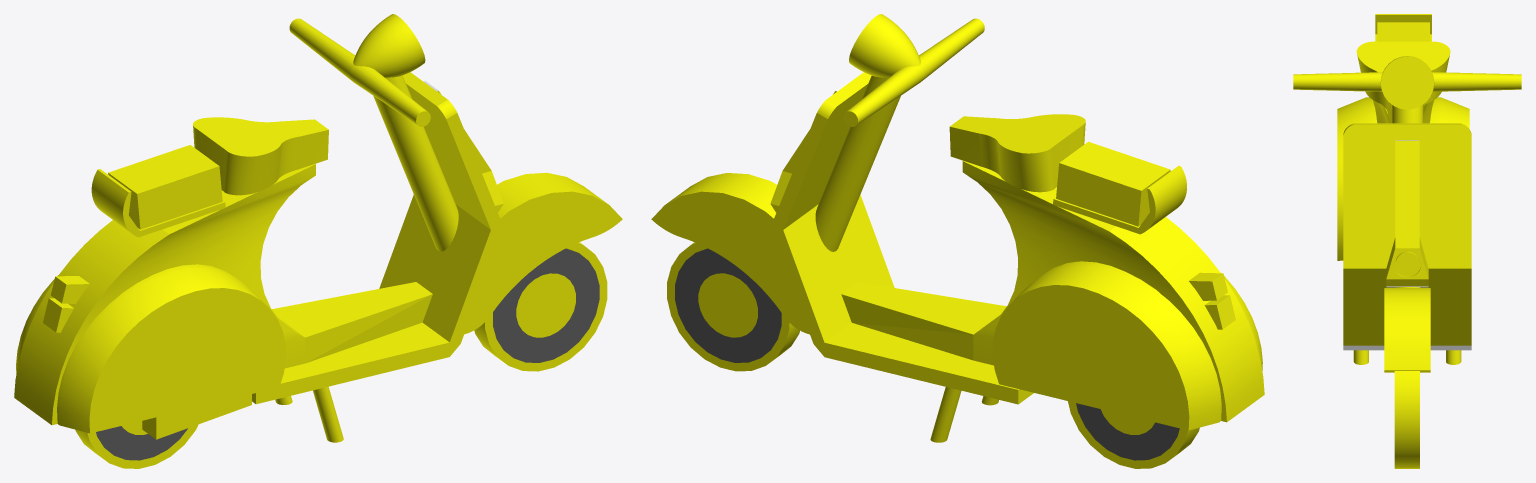
File: Motorbike.gltf
3 views of the same model, side by side, from view 1: azimuth 30°, elevation 25°; view 2: azimuth 150°, elevation 25°; view 3: azimuth 270°, elevation 25° (orthographic). The views are drawn at different scales.
Visible parts, largest first — view 1: Group_001, Group_003, Group_006, Group_005, Group_004, Group_010, Group_008, Group_011; view 2: Group_001, Group_002, Group_006, Group_005, Group_004, Group_010, Group_008, Group_011; view 3: Group_001, Group_005, Group_010, Group_006, Group_003, Group_004, Group_002.
Boxes of the visible parts, left/top/right/bottom form: Group_001: left=14, top=14, right=503, bottom=442; Group_003: left=57, top=264, right=285, bottom=439; Group_006: left=474, top=242, right=607, bottom=371; Group_005: left=464, top=172, right=622, bottom=334; Group_004: left=91, top=145, right=225, bottom=237; Group_010: left=193, top=117, right=328, bottom=195; Group_008: left=75, top=421, right=198, bottom=468; Group_011: left=43, top=276, right=89, bottom=332; Group_001: left=770, top=14, right=1264, bottom=442; Group_002: left=992, top=261, right=1221, bottom=430; Group_006: left=667, top=242, right=799, bottom=371; Group_005: left=651, top=173, right=809, bottom=334; Group_004: left=1053, top=141, right=1186, bottom=234; Group_010: left=949, top=114, right=1085, bottom=192; Group_008: left=1068, top=401, right=1199, bottom=468; Group_011: left=1189, top=272, right=1235, bottom=329; Group_001: left=1293, top=56, right=1521, bottom=364; Group_005: left=1384, top=288, right=1430, bottom=372; Group_010: left=1356, top=41, right=1450, bottom=123; Group_006: left=1394, top=371, right=1419, bottom=468; Group_003: left=1337, top=97, right=1377, bottom=260; Group_004: left=1375, top=14, right=1431, bottom=41; Group_002: left=1430, top=97, right=1469, bottom=128.
Bounding box in the file's own units: 0.3485 × 0.2198 × 0.132.
3 materials, 1 textured.
